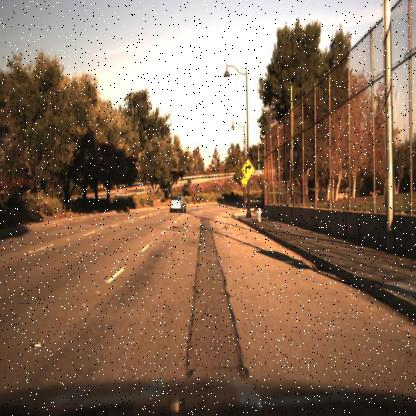car: (168, 193, 188, 216)
